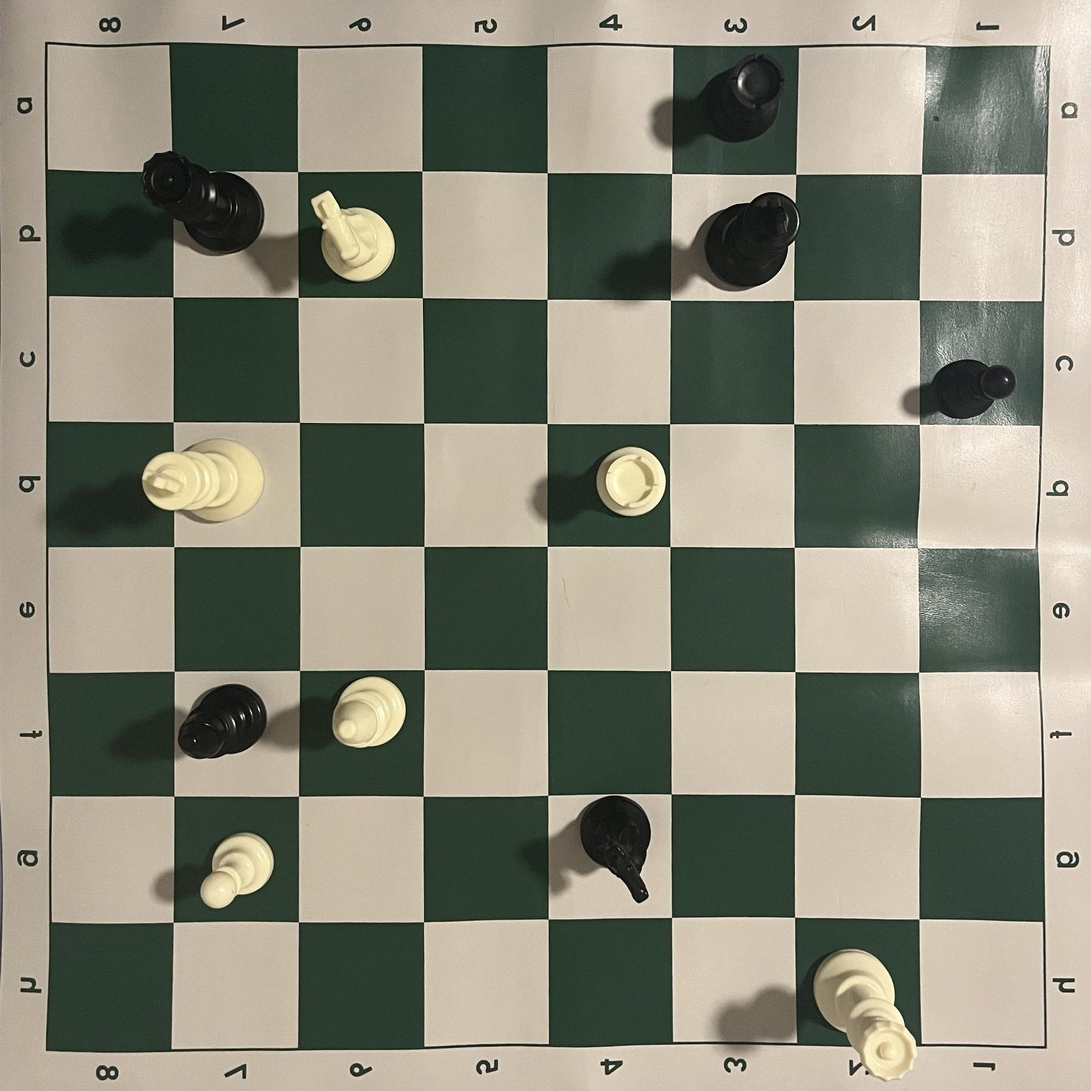black_bishop: (176, 683, 268, 761)
black_king: (703, 191, 800, 289)
black_knight: (579, 794, 652, 905)
black_pawn: (929, 359, 1017, 421)
black_queen: (142, 150, 265, 256)
black_rook: (691, 54, 786, 145)
white_bishop: (332, 675, 408, 750)
white_king: (141, 438, 266, 522)
white_knight: (311, 190, 396, 283)
white_pawn: (199, 831, 275, 911)
white_queen: (811, 947, 919, 1083)
white_rook: (595, 445, 668, 519)
